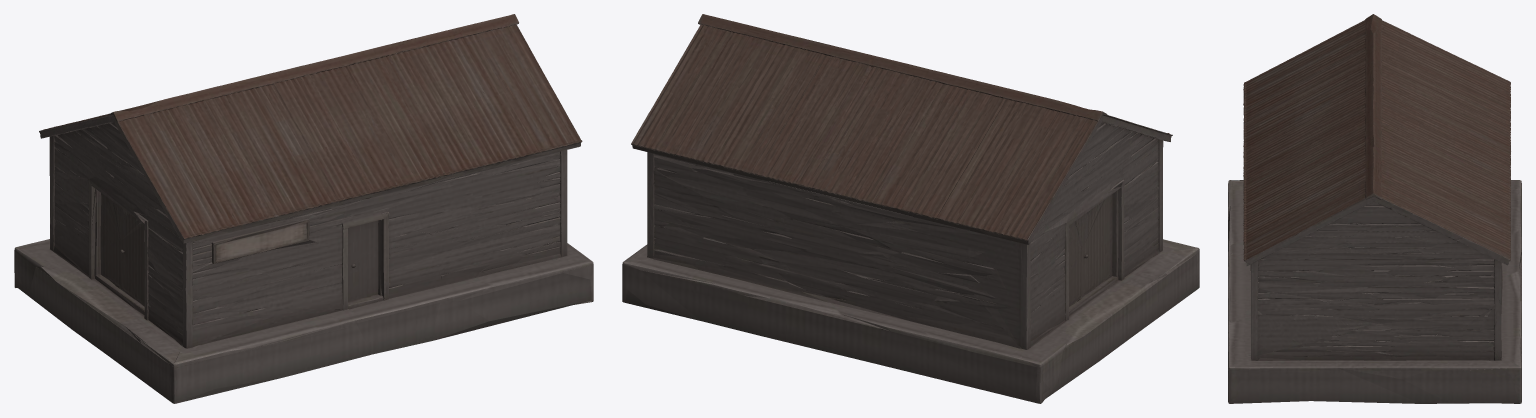
The model's file is dock-pier-warehouse.glb.
The picture shows the model from 3 angles, left to right: view 1: azimuth 30°, elevation 25°; view 2: azimuth 150°, elevation 25°; view 3: azimuth 270°, elevation 25°; orthographic projection. The views are drawn at different scales.
Visible parts, largest first — view 1: Mesh_0; view 2: Mesh_0; view 3: Mesh_0.
Part boxes in pixels (box(x1,y1,x2,y2)): Mesh_0: box(14, 14, 593, 403); Mesh_0: box(622, 14, 1199, 403); Mesh_0: box(1228, 14, 1521, 403).
Size of the model in its own units: 17.22 by 9 by 11.37.
2 materials, 2 textured.
